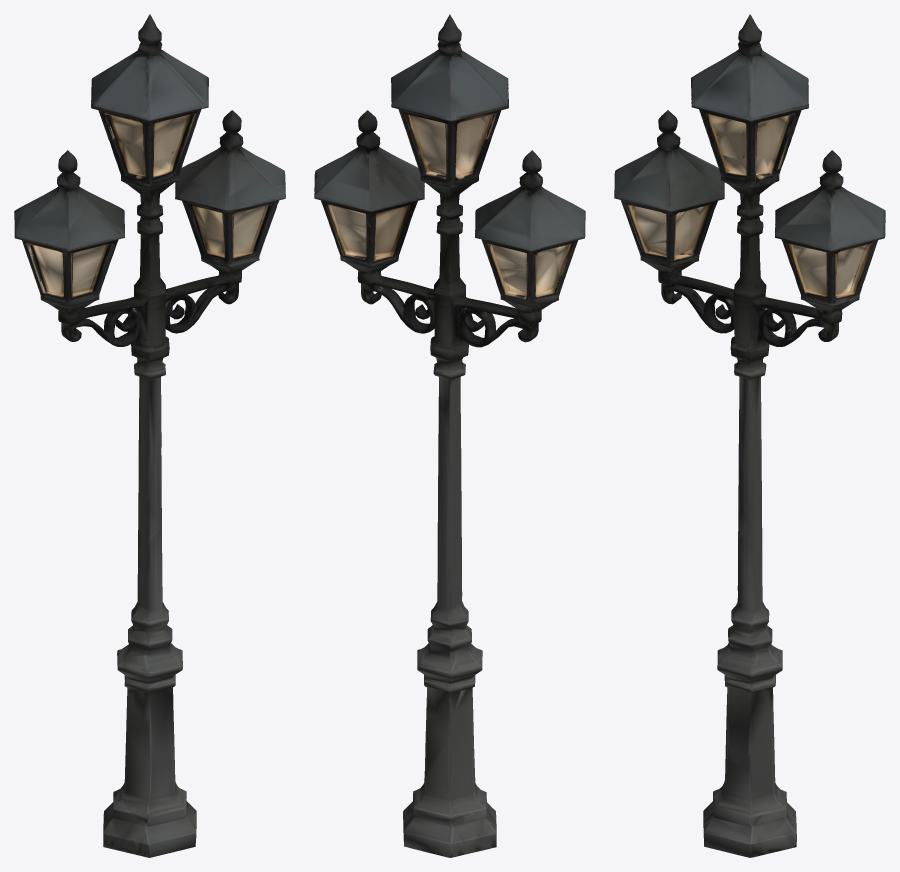
Rendered from lamp.glb.
3 renders of one model, left to right at view 1: azimuth 30°, elevation 25°; view 2: azimuth 150°, elevation 25°; view 3: azimuth 330°, elevation 25°, orthographic.
Parts seen in each view (by area): view 1: node_0; view 2: node_0; view 3: node_0.
Boxes of the visible parts, bbox=[...] form: node_0: bbox=[14, 14, 285, 857]; node_0: bbox=[314, 14, 585, 857]; node_0: bbox=[614, 14, 885, 857].
Size of the model in its own units: 0.4101 by 1.19 by 0.1505.
Materials: 1 (1 with a texture image).
